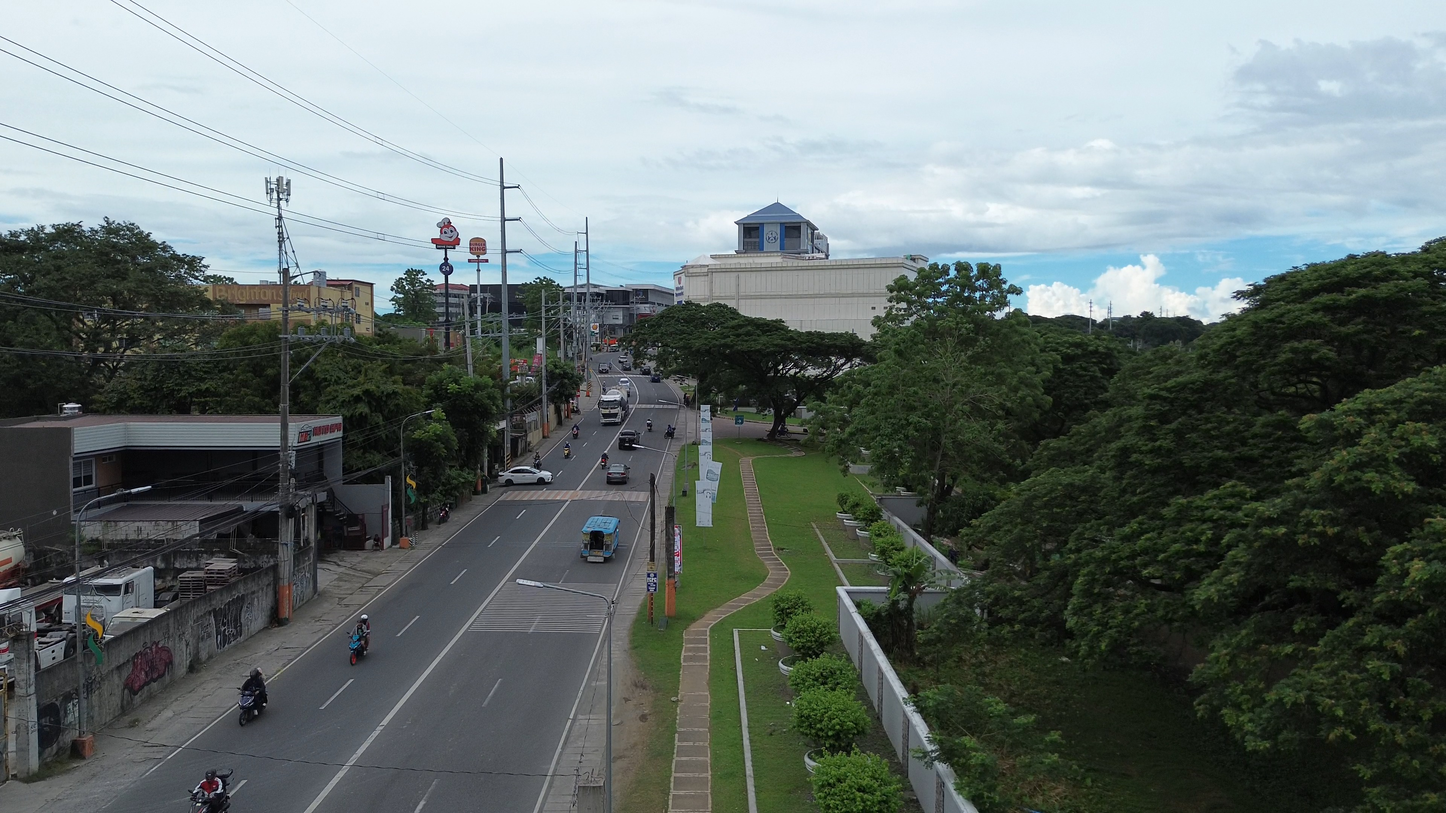car: (499, 466, 552, 485), (606, 463, 629, 484), (618, 376, 632, 387), (650, 373, 662, 383)
motorcycle: (190, 769, 233, 813), (238, 689, 264, 726), (350, 633, 367, 665), (438, 505, 450, 524), (665, 426, 674, 439), (599, 455, 608, 468), (571, 425, 579, 439), (563, 447, 572, 459), (646, 420, 653, 432)
truck: (599, 388, 628, 425)
vehicle: (81, 568, 153, 625), (105, 608, 167, 639), (580, 516, 619, 562), (349, 632, 367, 665), (618, 429, 639, 450), (619, 359, 631, 371), (665, 425, 675, 438), (563, 445, 572, 459), (598, 364, 612, 373), (639, 365, 652, 374), (645, 419, 653, 432)
